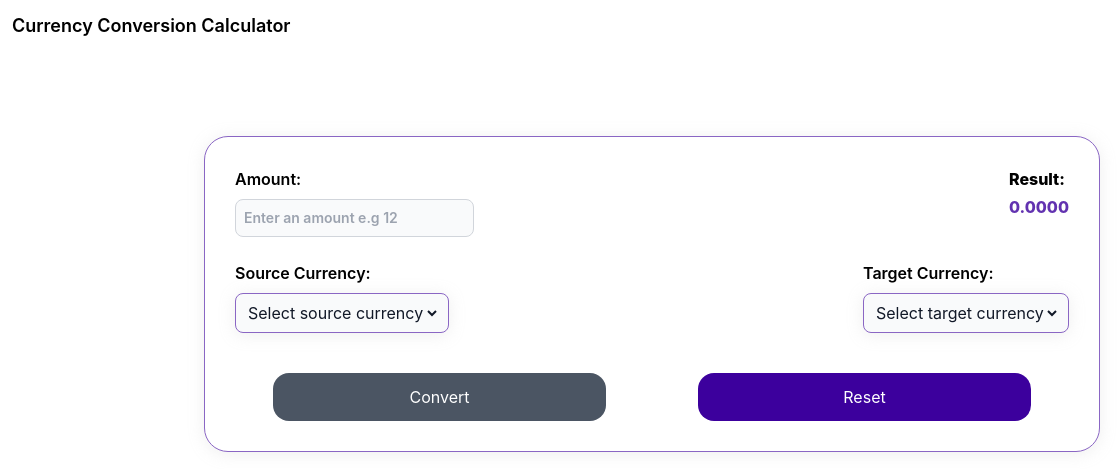
Exchangerate › should handleReset correctly
Type "10" into the field labelled "Amount:".
click(354, 218); type("10")  # box [235,199,474,237]
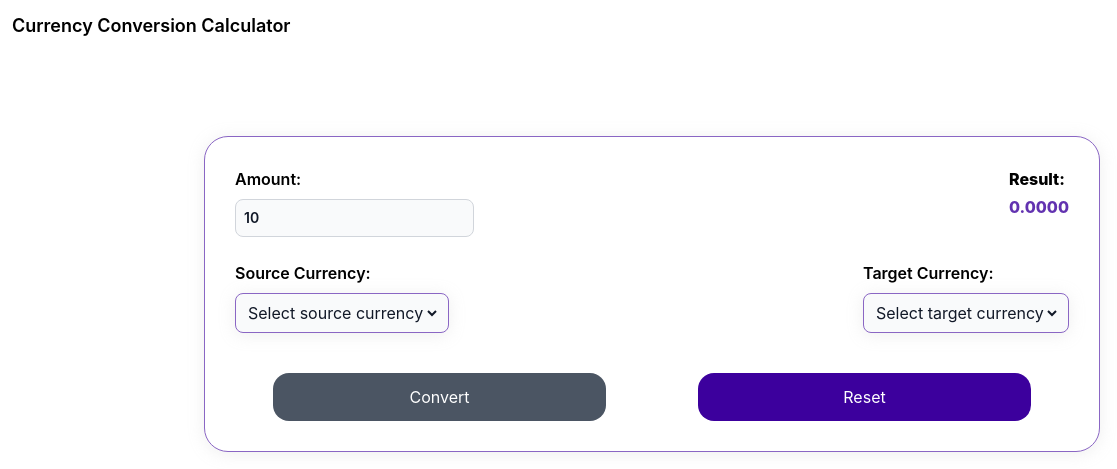
Select "USD" in the dropdown labelled "Source Currency:" at (342, 313), box [244,302,440,324]
Select "EUR" in the dropdown labelled "Target Currency:" at (966, 313), box [872,302,1060,324]
Click the button "Reset".
click(864, 397)  # box [698,373,1031,421]
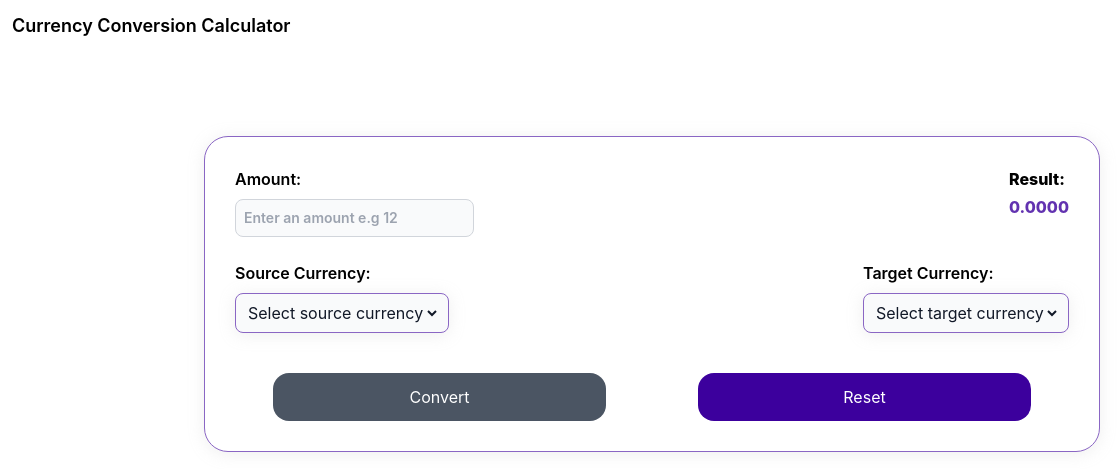
Now the field labelled "Amount:" is empty, box [235,199,474,237]
